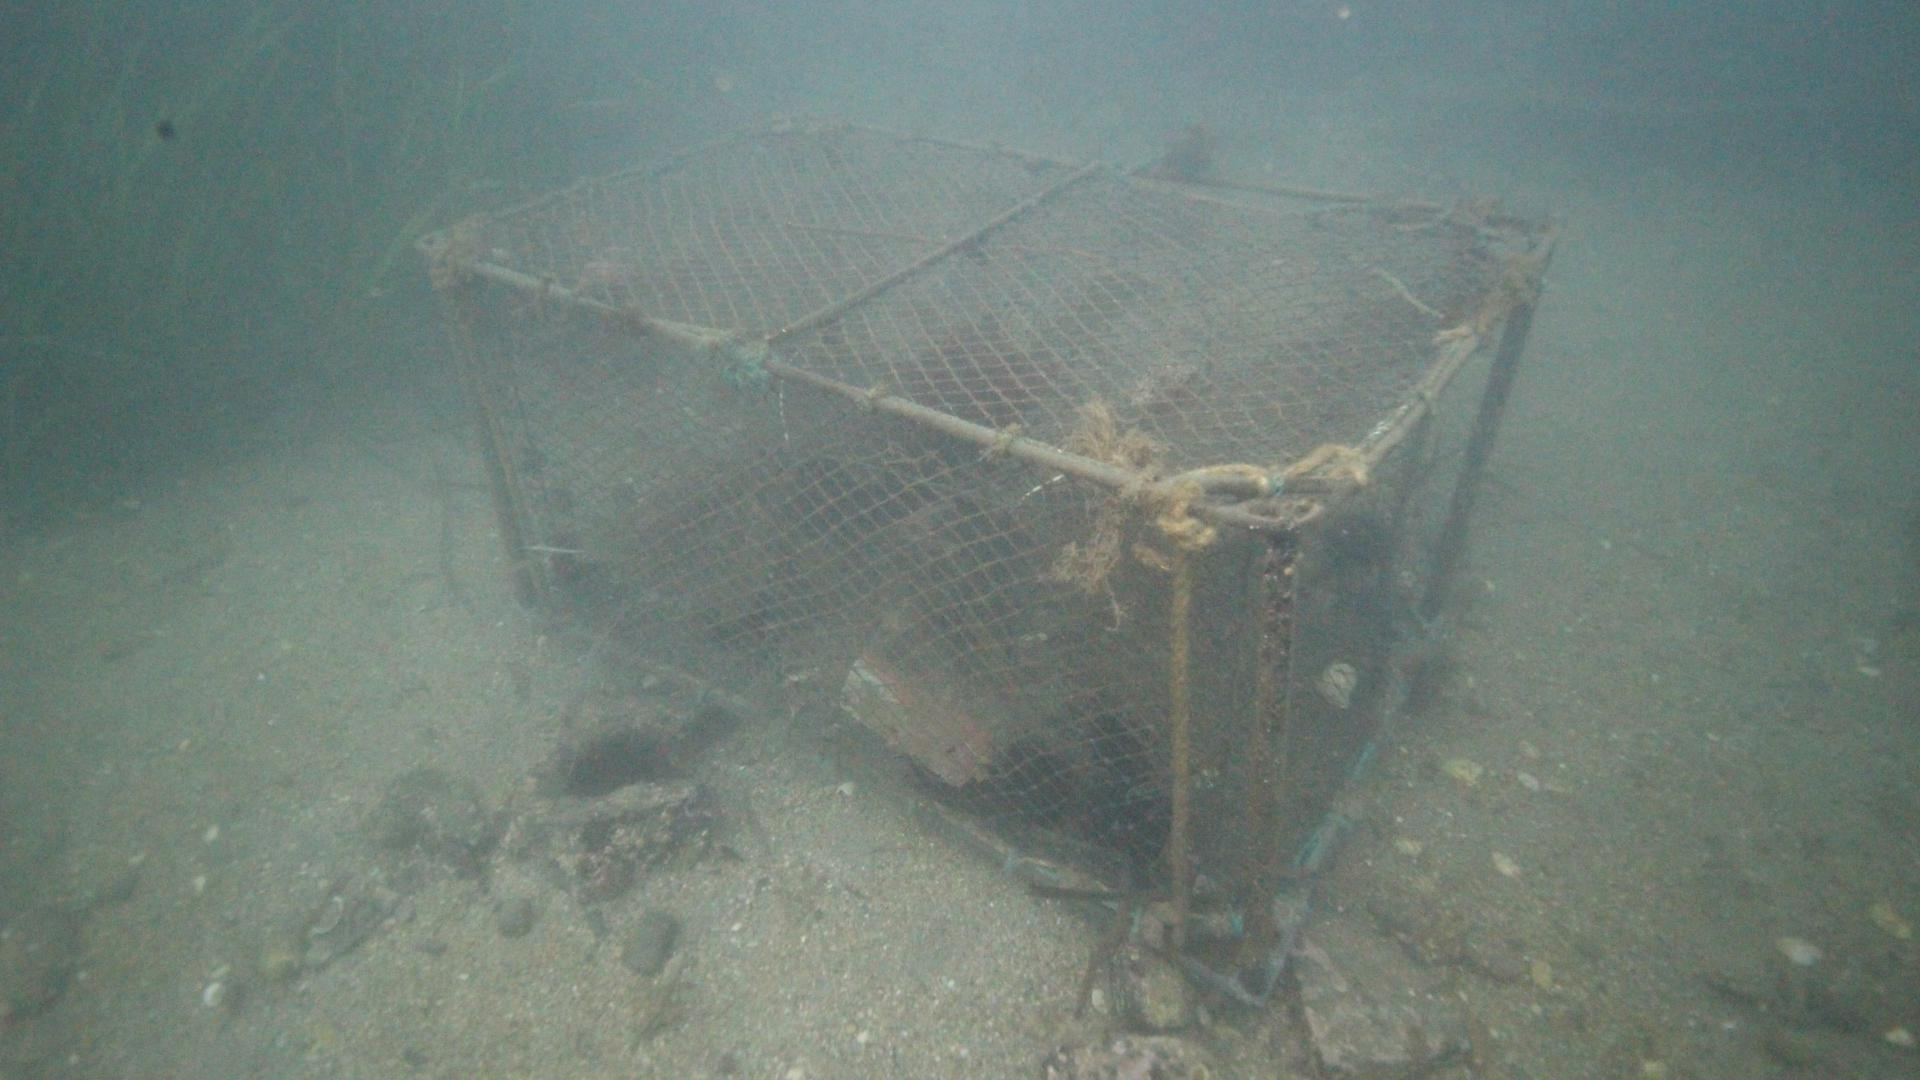rectangular fish trap: (411, 108, 1568, 1007)
